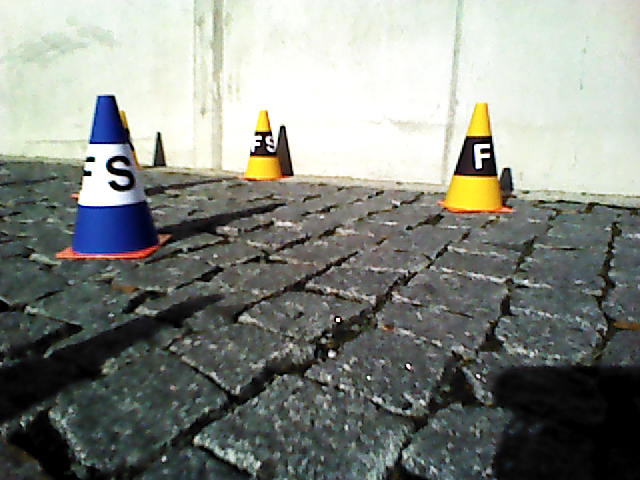bluecone: (74, 94, 153, 251)
yellowcone: (448, 103, 505, 210), (246, 111, 281, 178)
